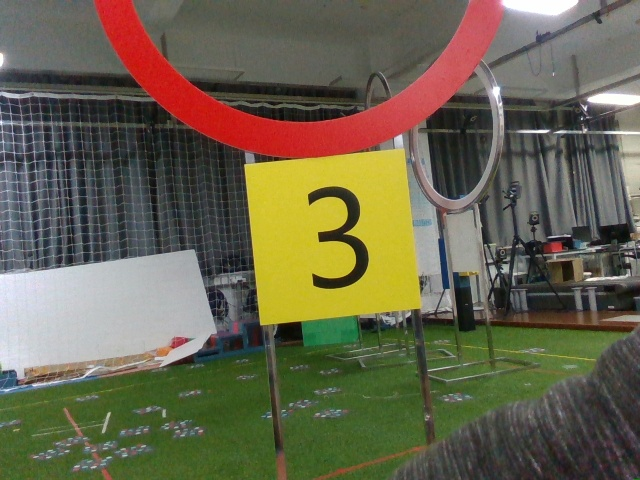target: (248, 158, 405, 308)
